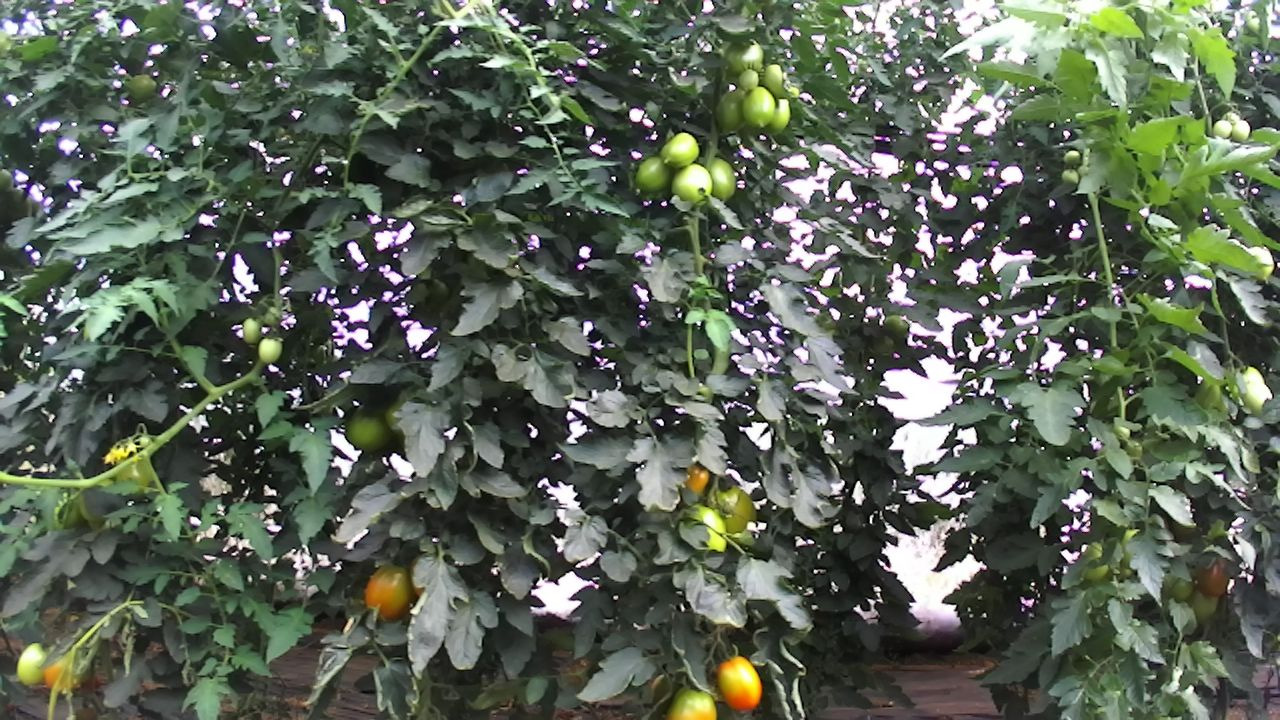tomato: (361, 561, 417, 623), (338, 398, 397, 456), (715, 652, 764, 713), (667, 157, 715, 211), (661, 683, 719, 720), (1192, 553, 1236, 599), (14, 638, 52, 689), (711, 82, 748, 132), (739, 82, 776, 130), (658, 129, 701, 169), (633, 154, 675, 192), (706, 154, 737, 203), (256, 335, 283, 366), (735, 66, 761, 93), (241, 315, 262, 345), (1229, 117, 1252, 143), (1211, 118, 1233, 140), (1059, 165, 1080, 185), (1061, 147, 1082, 167)
